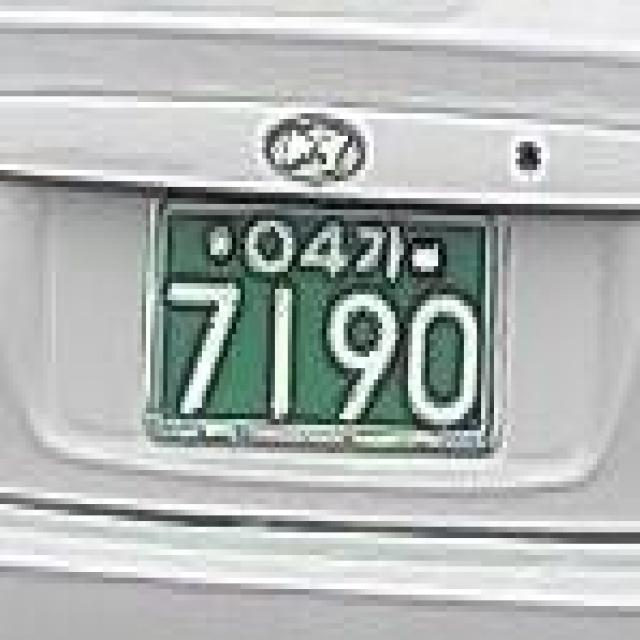illegal_plate: (128, 172, 519, 484)
